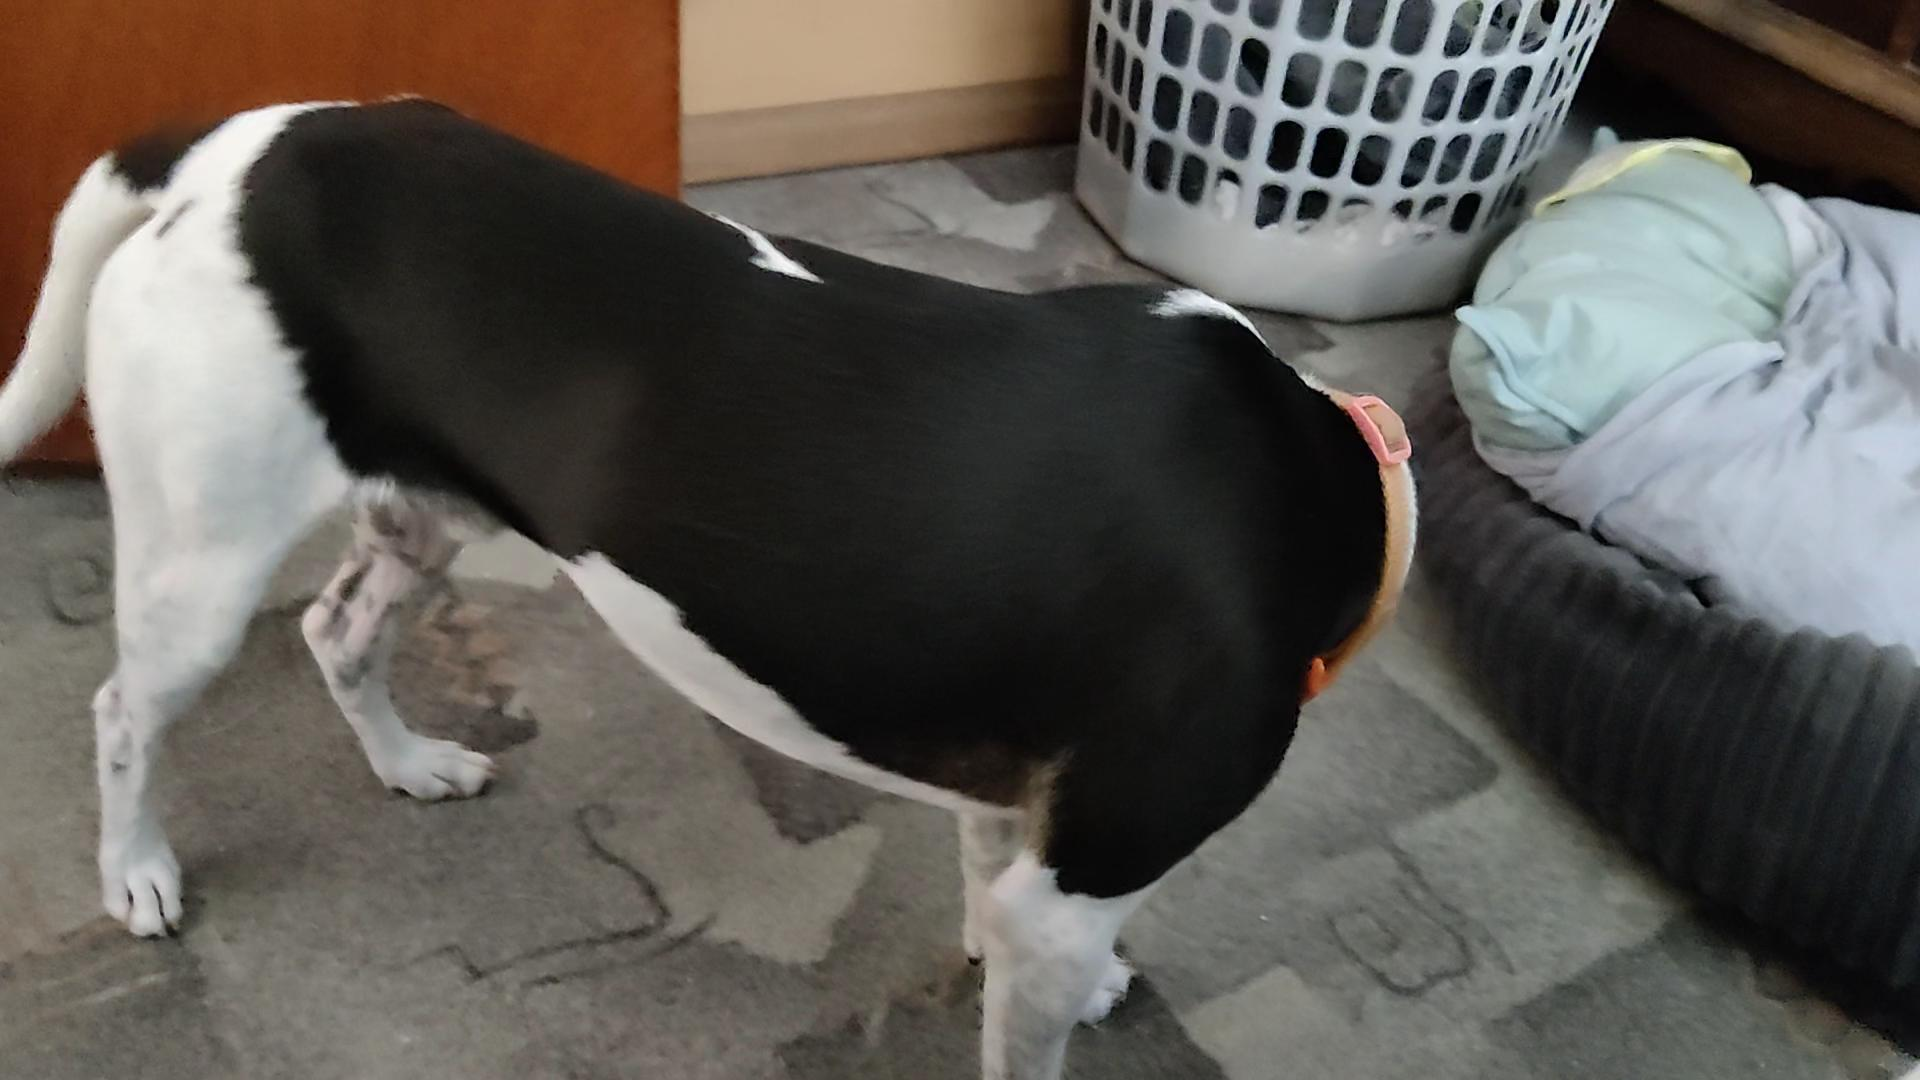Dog: (0, 84, 1431, 1079)
